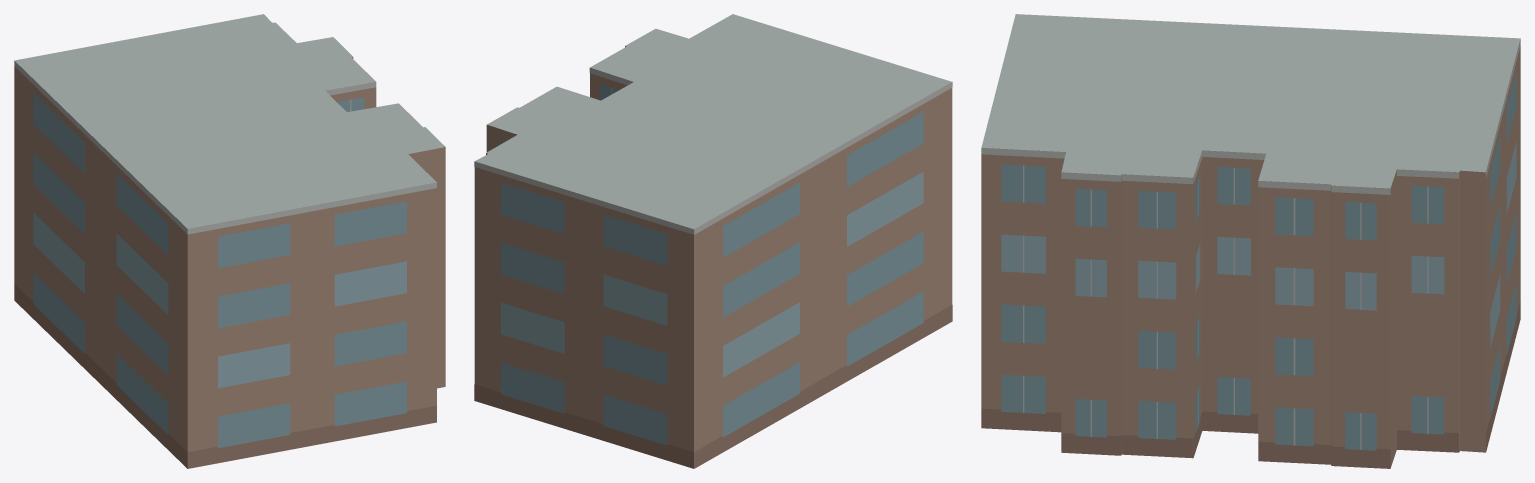
The model's file is survey-upis-32777616.glb.
3 renders of one model, left to right at view 1: azimuth 30°, elevation 25°; view 2: azimuth 150°, elevation 25°; view 3: azimuth 270°, elevation 25°, orthographic. The views are drawn at different scales.
Visible parts, largest first — view 1: survey-upis-32777616.tmp; view 2: survey-upis-32777616.tmp; view 3: survey-upis-32777616.tmp.
Boxes of the visible parts, x1,y1,x2,y2 form: survey-upis-32777616.tmp: [14, 14, 445, 468]; survey-upis-32777616.tmp: [474, 14, 952, 468]; survey-upis-32777616.tmp: [981, 14, 1520, 468].
Size of the model in its own units: 14.03 by 10.5 by 18.31.
